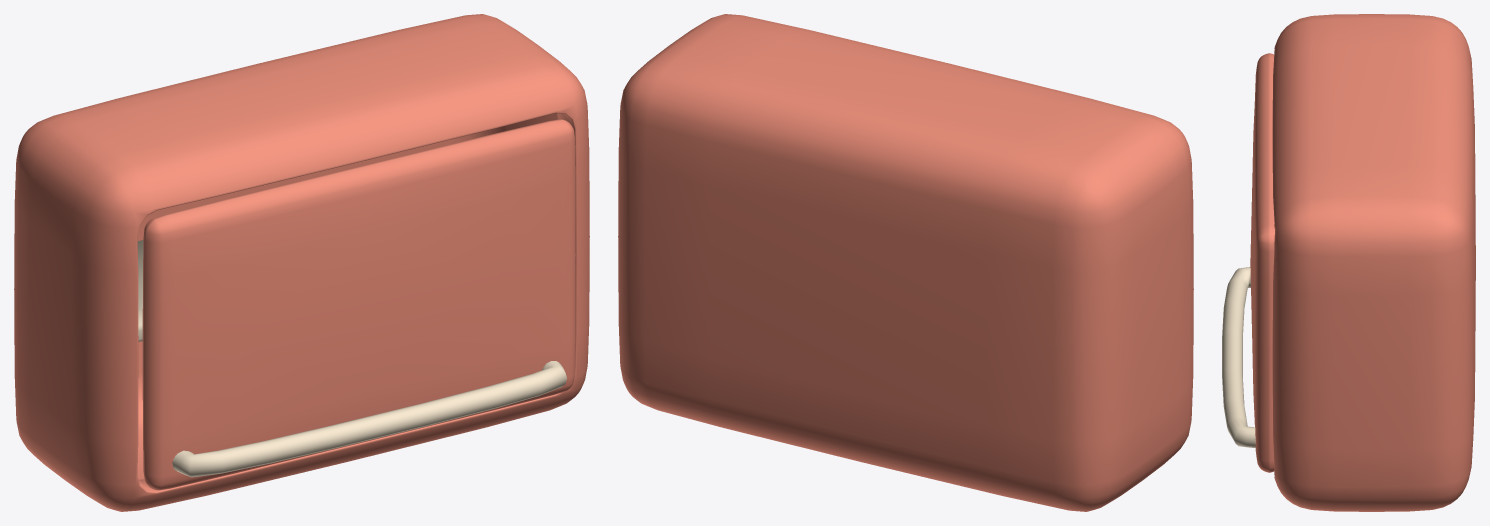
Rendered from upper_b.glb.
The picture shows the model from 3 angles, left to right: view 1: azimuth 30°, elevation 25°; view 2: azimuth 150°, elevation 25°; view 3: azimuth 270°, elevation 25°; orthographic projection. The views are drawn at different scales.
Visible parts, largest first — view 1: door, body; view 2: body; view 3: body, door.
Boxes of the visible parts, x1,y1,x2,y2 form: door: [142, 119, 575, 490]; body: [14, 14, 589, 511]; body: [618, 14, 1193, 511]; body: [1272, 14, 1475, 511]; door: [1222, 53, 1274, 472].
Size of the model in its own units: 0.9 by 0.6 by 0.439.
